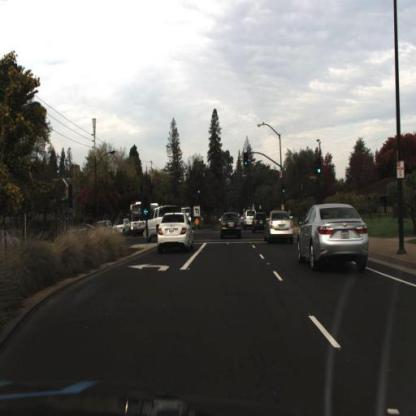car: (296, 201, 373, 276), (158, 216, 194, 252), (264, 210, 295, 244), (265, 211, 295, 243), (220, 212, 245, 240), (149, 208, 171, 239), (250, 212, 270, 238), (245, 209, 256, 231)
trafficLight: (243, 151, 251, 176), (198, 183, 203, 199)
trafficLight-Green: (316, 165, 324, 186), (281, 184, 286, 198)
trafficLight-GreenLeft: (140, 191, 151, 221)
truck: (130, 199, 162, 237)
